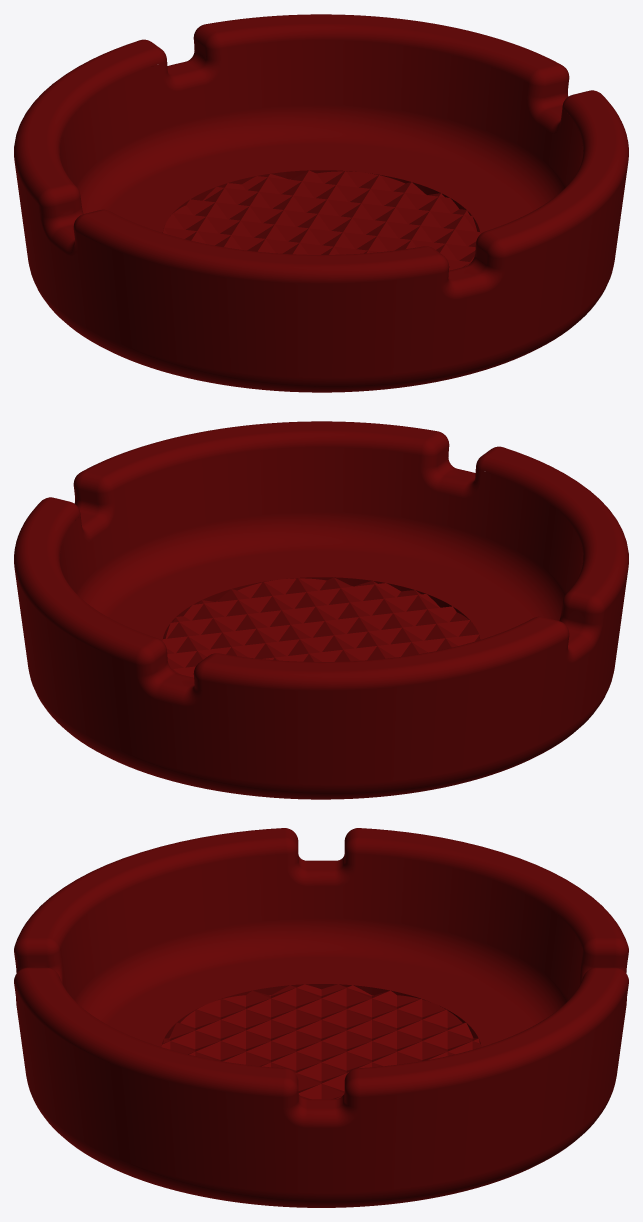
The model's file is ashtray.glb.
3 renders of one model, top to bottom at view 1: azimuth 30°, elevation 25°; view 2: azimuth 150°, elevation 25°; view 3: azimuth 270°, elevation 25°, orthographic.
Bounding box in the file's own units: 0.1332 × 0.0335 × 0.1332.
